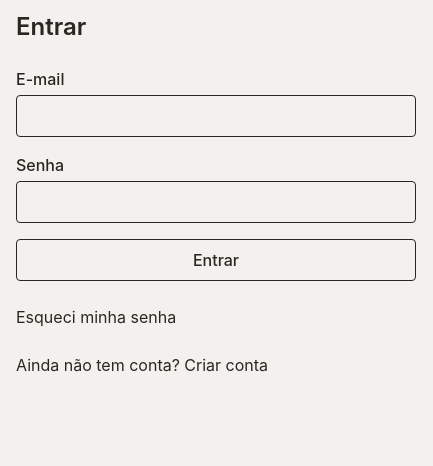
fluxo senha, código, entrada no app (AUTH-01, AUTH-04) › código precisa ter 6 dígitos antes de enviar
In the field labelled "E-mail": [216, 116] box [16, 95, 416, 137], type "ana@exemplo.com.br"
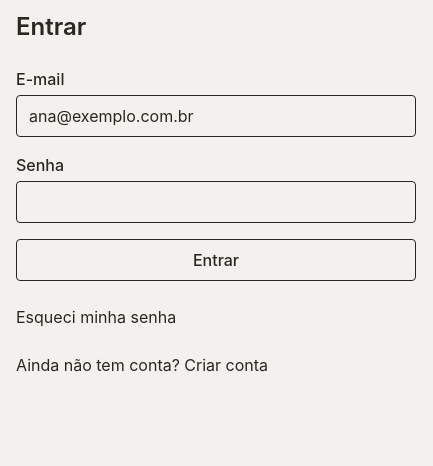
In the password field labelled "Senha": [216, 202] box [16, 181, 416, 223], type "cavalo-bateria-grampo-7"
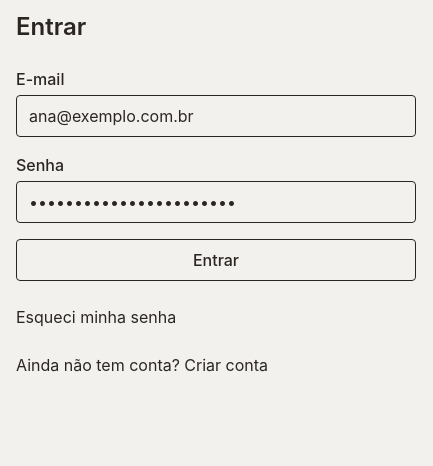
Click the button "Entrar": [216, 260] box [16, 239, 416, 281]
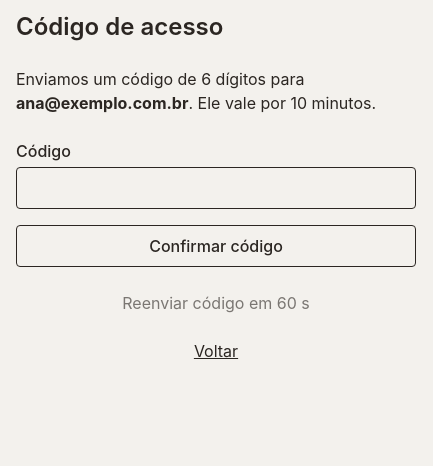
In the field labelled "Código": [216, 188] box [16, 167, 416, 209], type "12a"
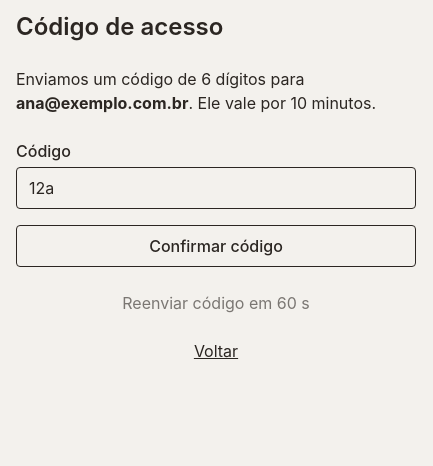
Click the button "Confirmar código": [216, 246] box [16, 225, 416, 267]
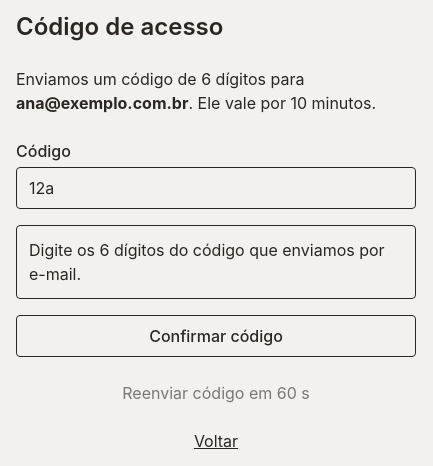
Now the message shows "6 dígitos", box [29, 240, 385, 284]
